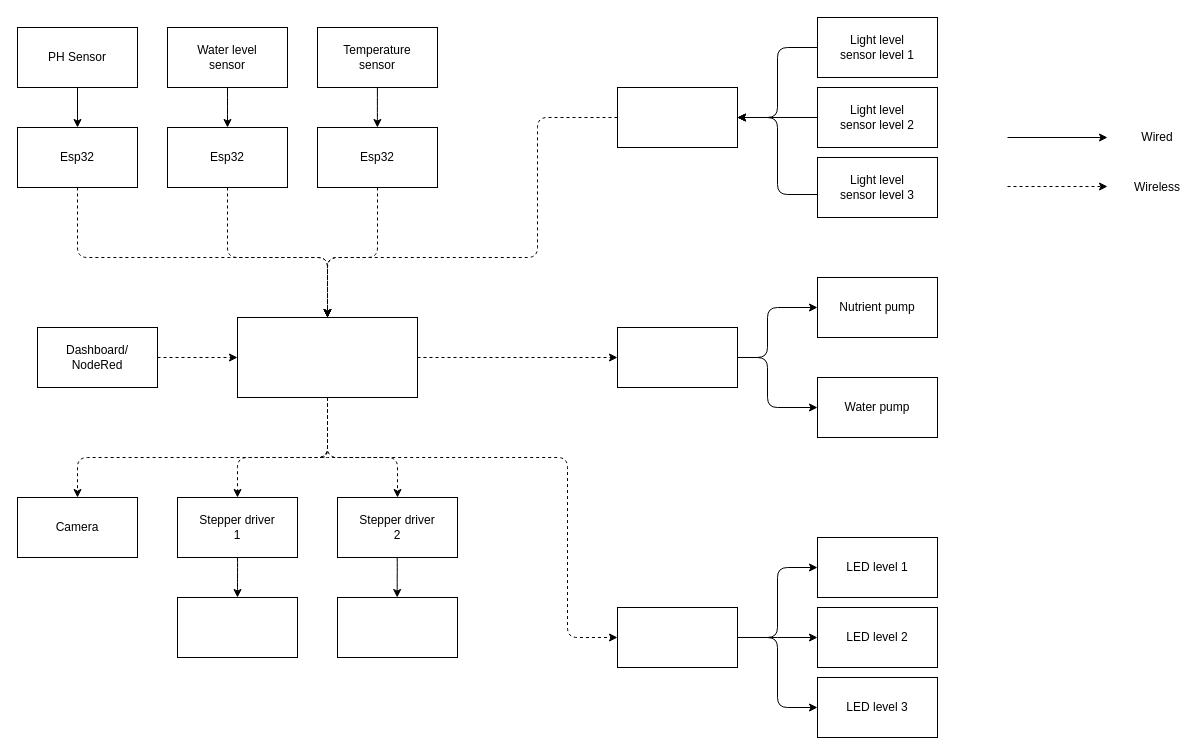
The diagram is 1198 pixels wide and 755 high, and some of its shapes have lost their labels. Here are the shapes that lost their labels. From the top down, the box of each, then its label:
(616, 86, 738, 148): Light level controller Esp32
(236, 316, 418, 398): Rasberry Pi
(616, 326, 738, 388): Pump controller Esp32
(176, 596, 298, 658): Stepper motor 1
(336, 596, 458, 658): Stepper motor 2
(616, 606, 738, 668): Light controller Esp32
